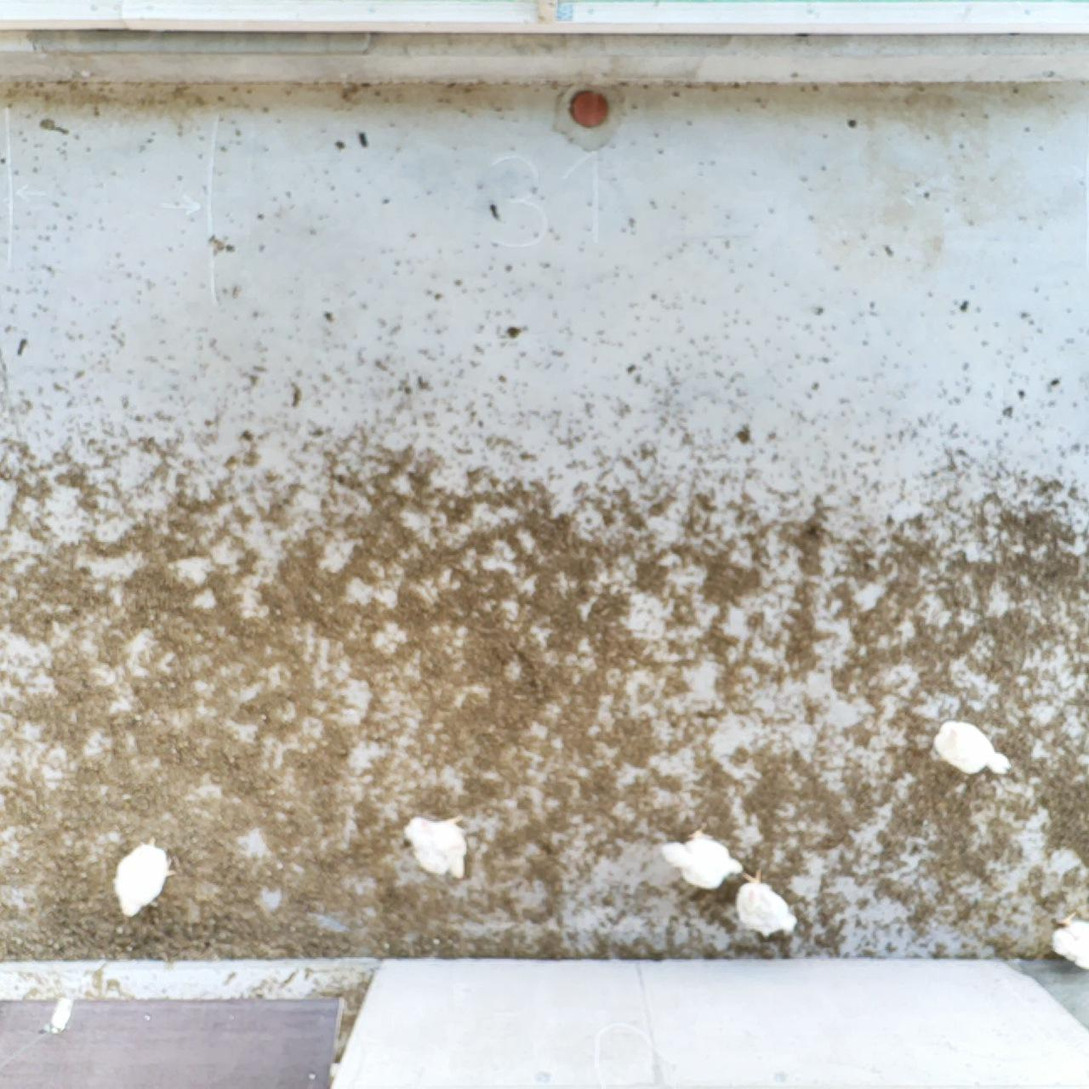chicken: (109, 829, 178, 920), (658, 823, 745, 893), (403, 812, 479, 884), (731, 868, 802, 942), (931, 718, 1015, 779), (1046, 904, 1089, 973)
